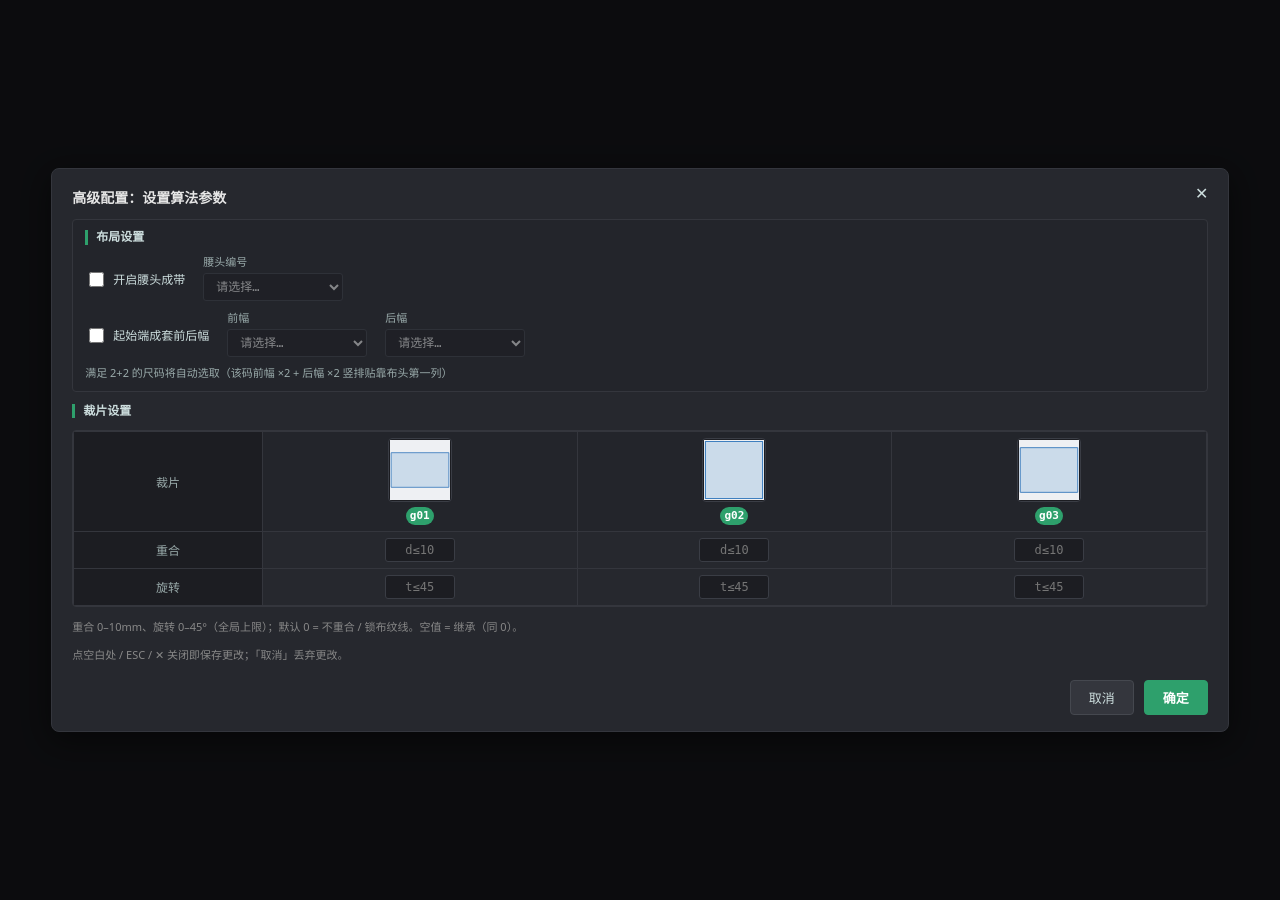
Test case: PerTypeOverridesModal 布局设置 prefix 分区 (US-004) › 无补片 / 旧后端（extra 等新键缺席）→ 放大层文案现行形态（不追加异码段，协议向后兼容）
Click the checkbox with test id "prefix-enabled": [97, 335] box [89,328,104,342]
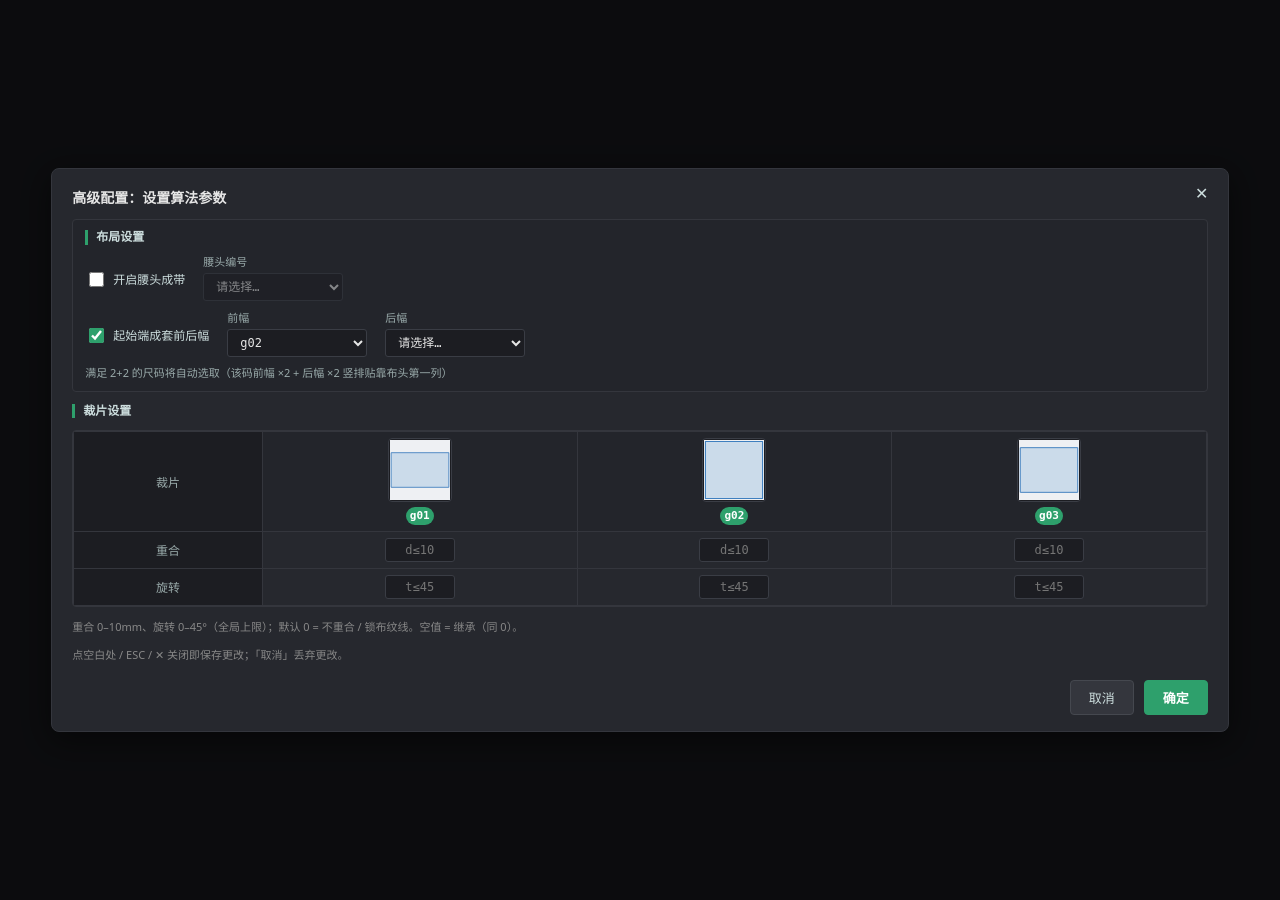
Select "g02" in the dropdown with test id "prefix-front-select": [297, 342] box [227,328,367,356]
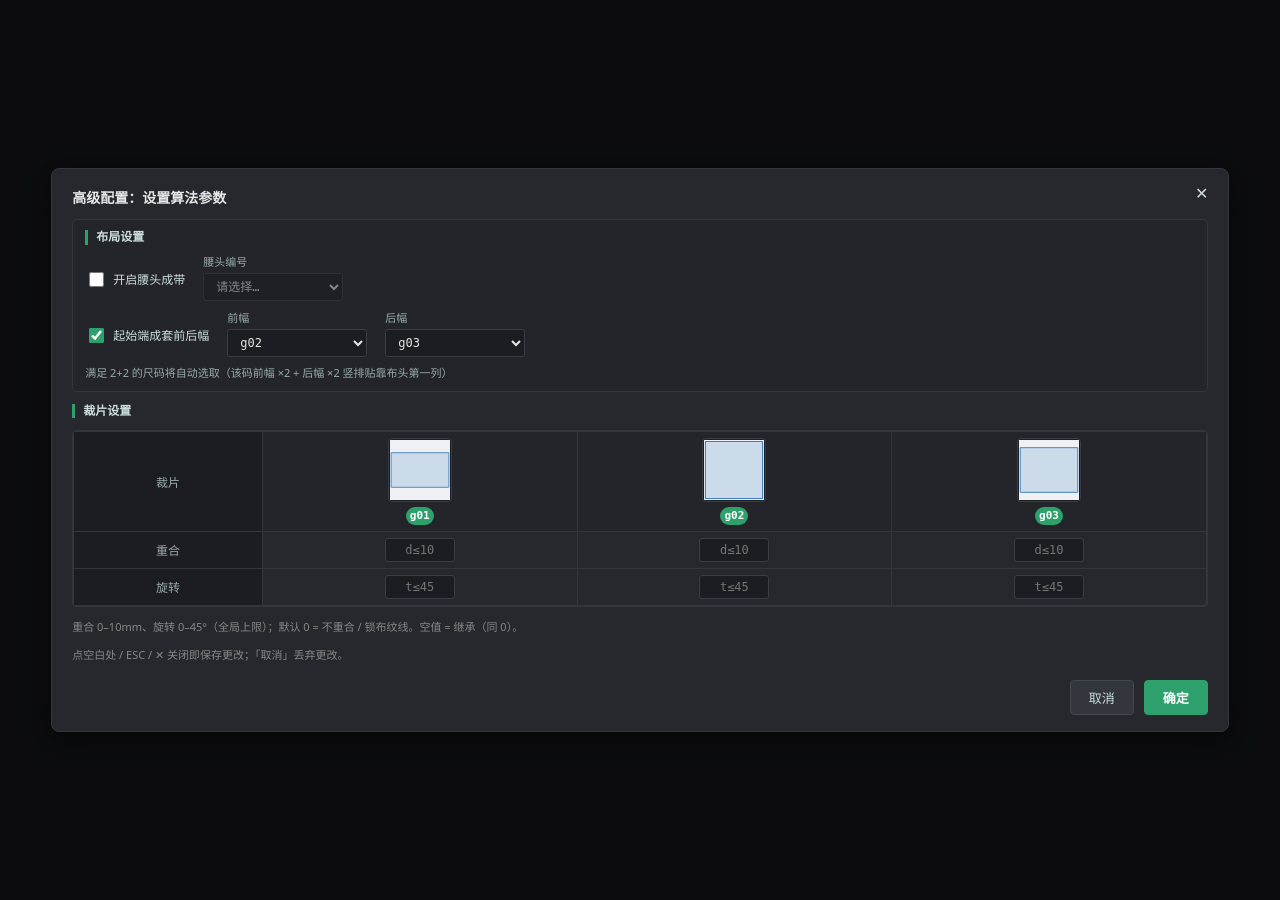
Select "g03" in the dropdown with test id "prefix-back-select": [455, 342] box [385,328,525,356]
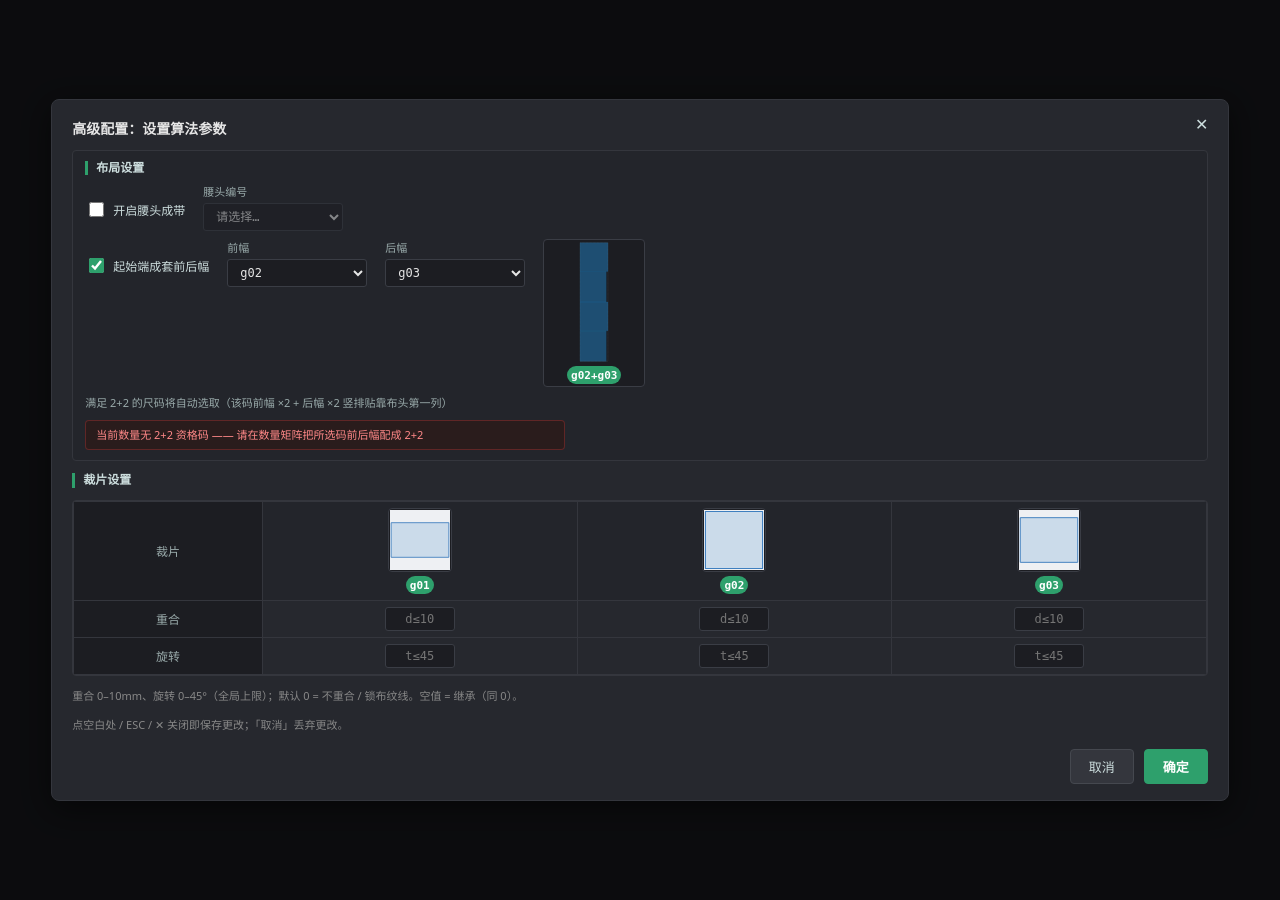
Click the button with test id "prefix-thumb-g02+g03": [594, 313] box [543,239,645,387]
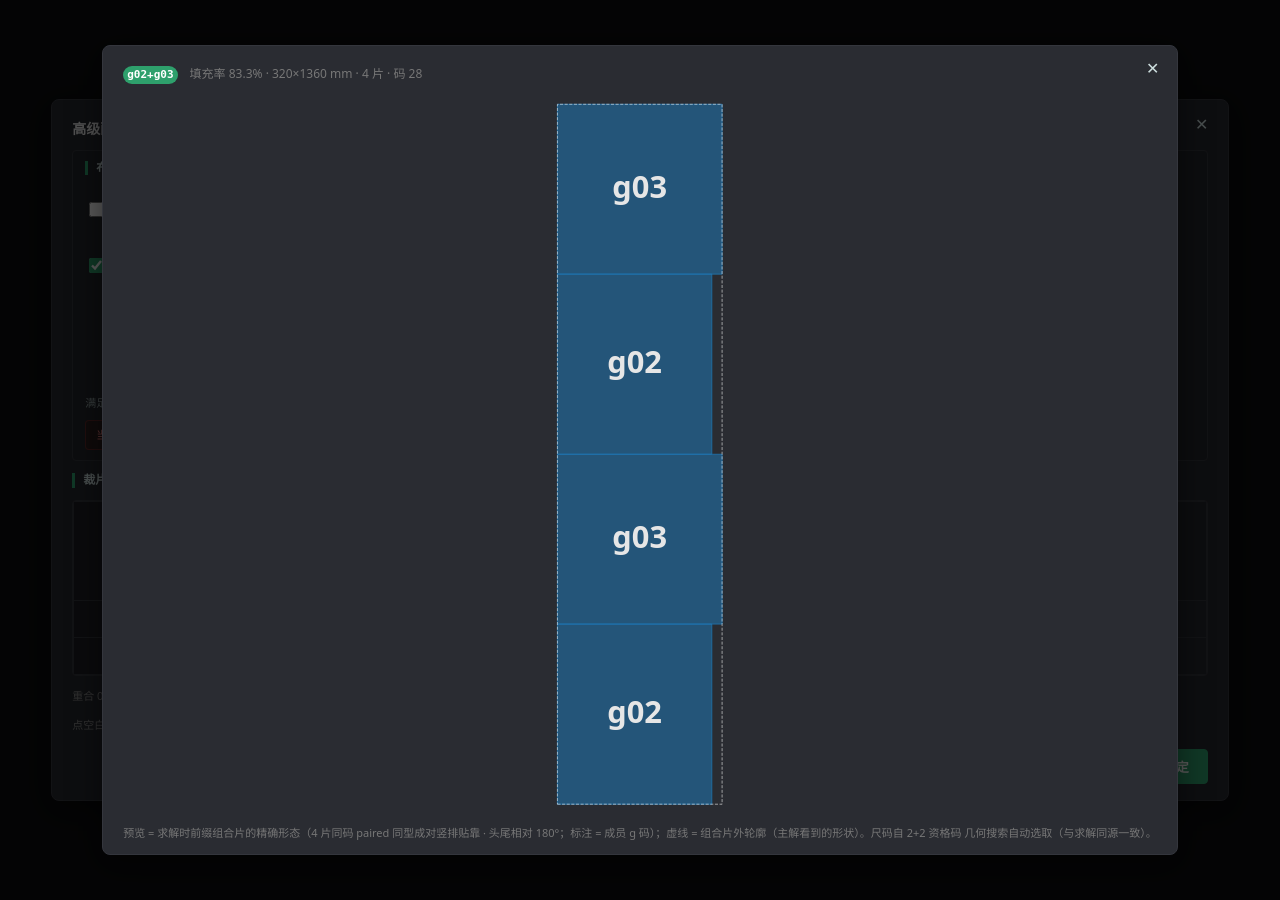
Now the text with class "band-zoom-hint" shows "4 片同码 paired 同型成对竖排贴靠", box [123,825,655,840]
Now the text with class "band-zoom-hint" shows "虚线 = 组合片外轮廓", box [655,825,1157,840]
